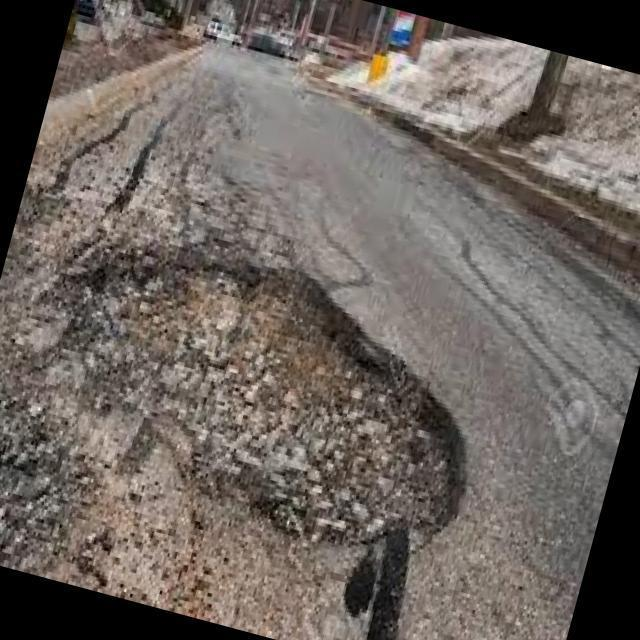Pothole: (92, 266, 450, 570)
